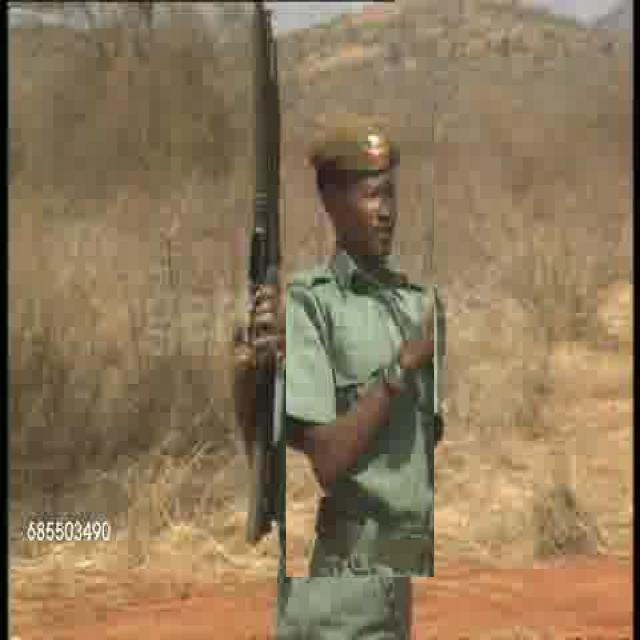poacher: (286, 100, 434, 578)
weapon: (252, 2, 279, 537)
